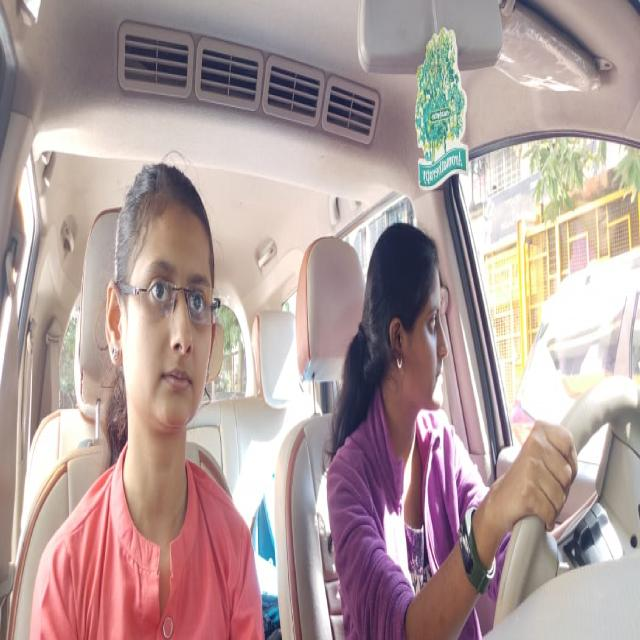LeftRight: (364, 215, 467, 442)
person: (100, 148, 234, 452)
